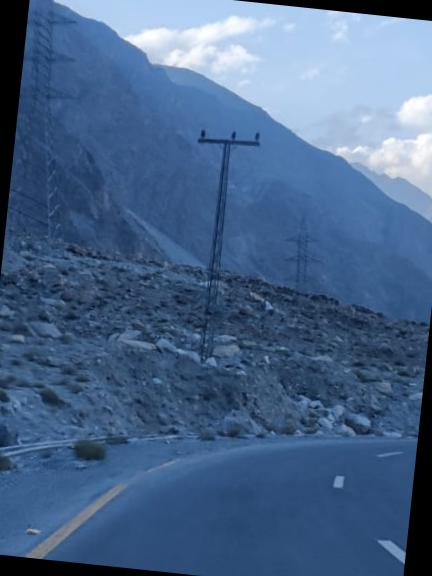right_turn: (99, 308, 428, 576)
